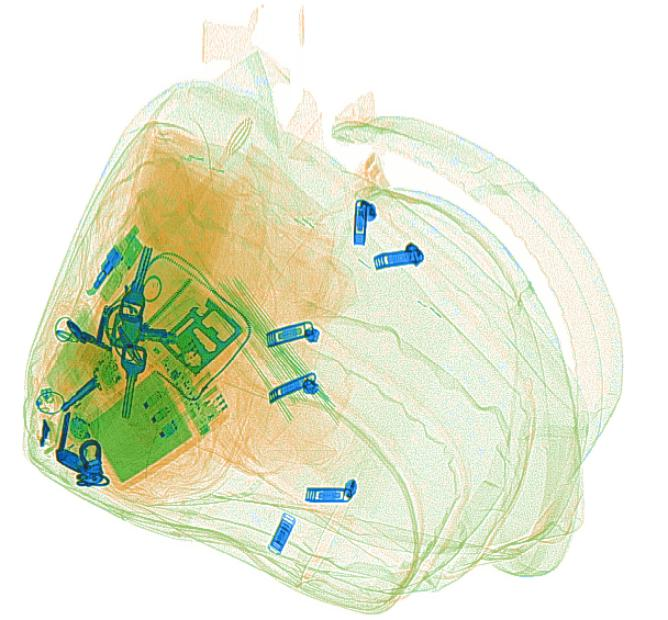USBFlashDisk: (84, 227, 145, 301)
